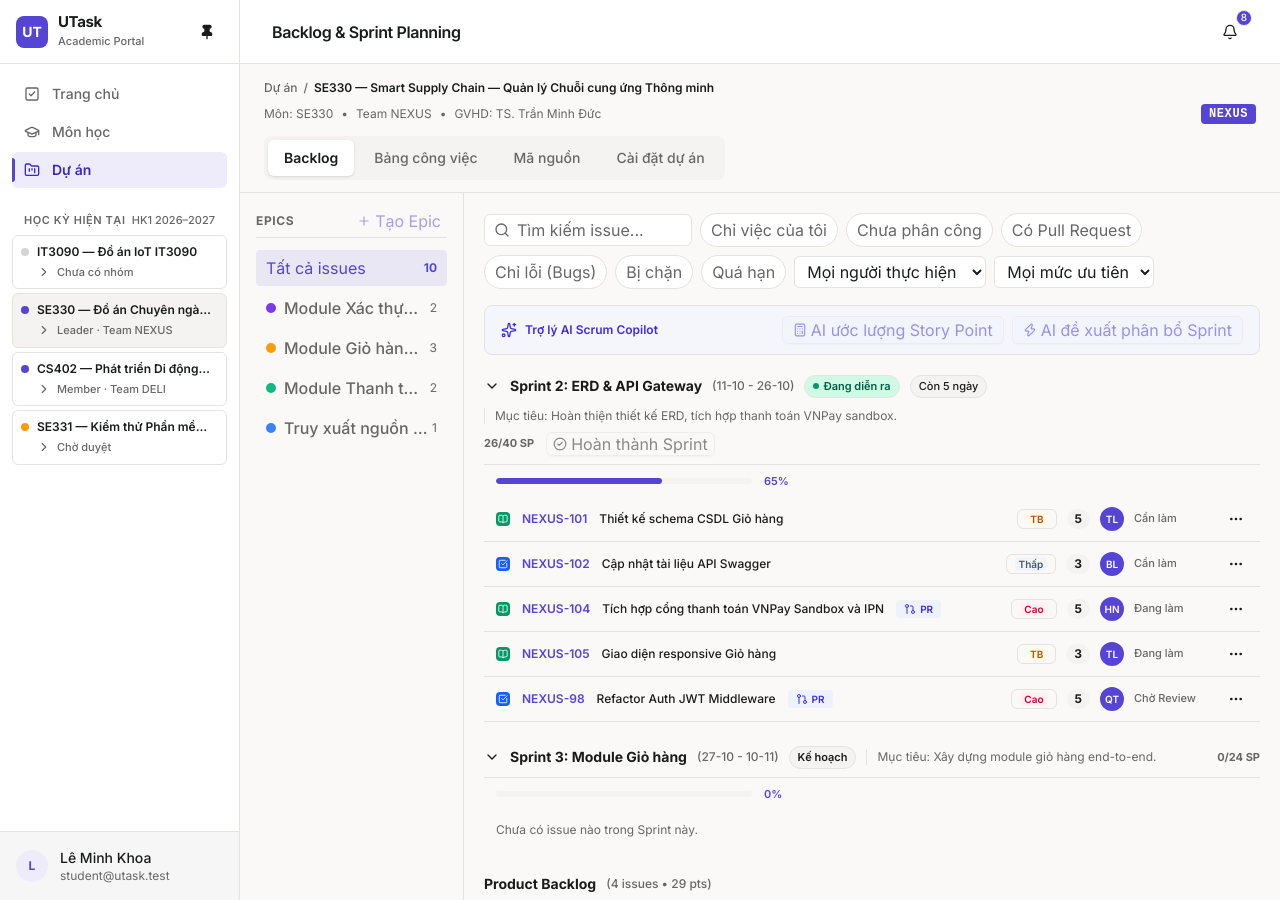
Test: multi-membership access (SV01, one session) › flips between leader and member UI within one session via the sidebar
This screenshot has width=1280, height=900.
Expected: the button "Tạo Epic" is shown, [351,209,447,233]
// Sidebar → CS402 (member workspace): leader-only actions disappear.
Click the link "CS402 — Phát triển Di động CS402 Member · Team DELI": (120, 379) [12,352,227,406]
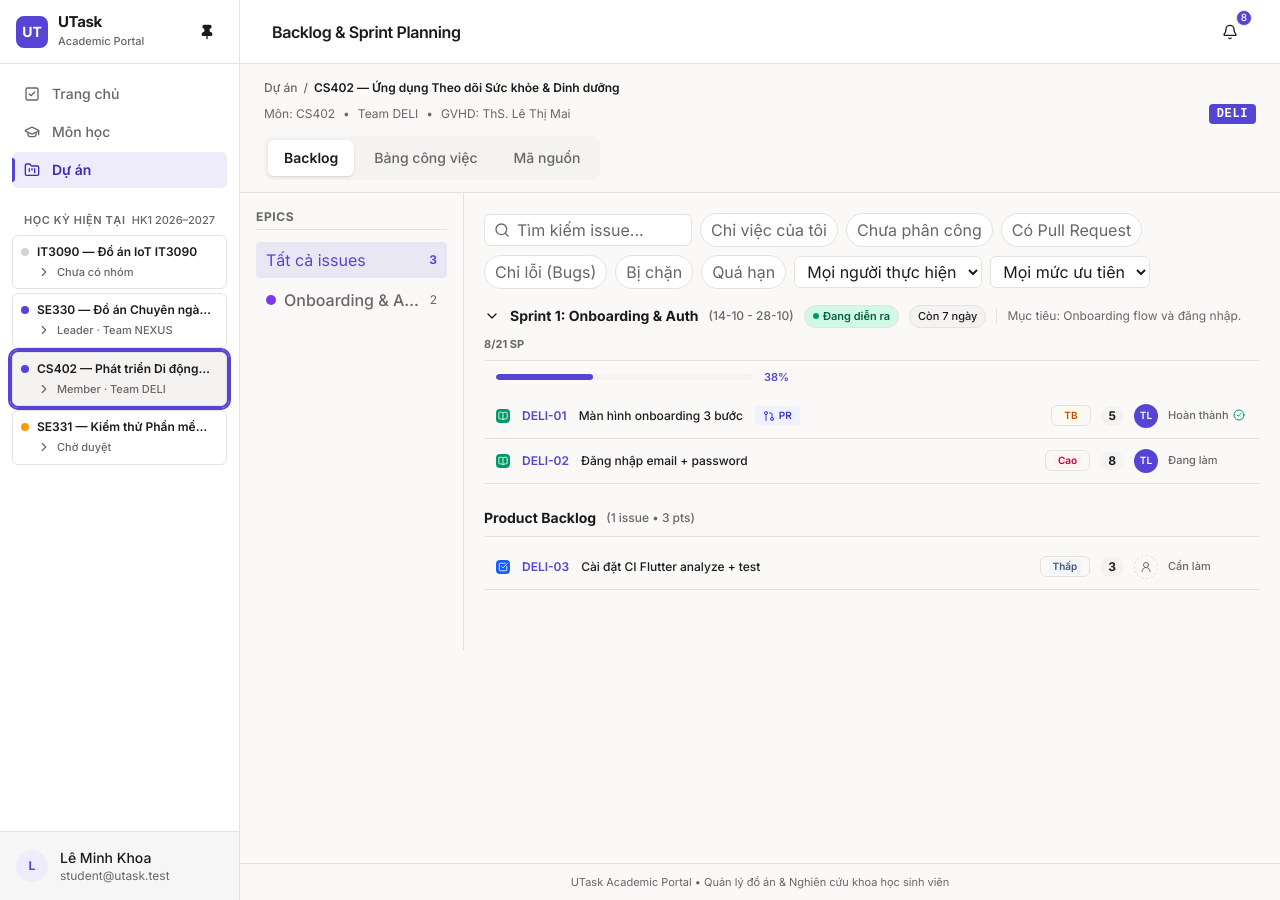
Now the button "Tạo Epic" is gone
Now the button "DELI-02" is shown, box [522,452,569,468]
// Back to SE330 (leader workspace) without re-logging in.
Click the link "SE330 — Đồ án Chuyên ngành SE330 Leader · Team NEXUS": (120, 320) [12,293,227,348]
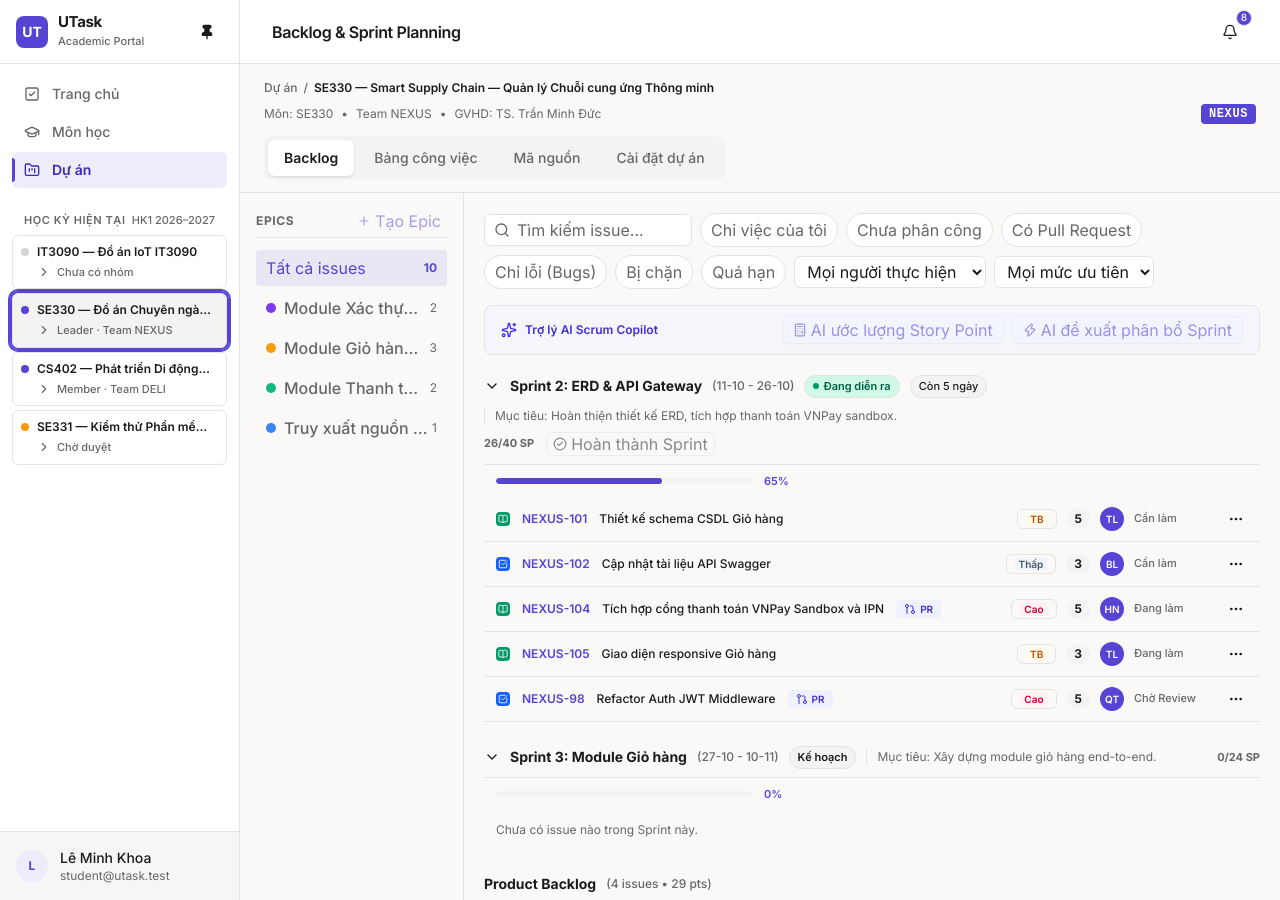
Now the button "Tạo Epic" is shown, box [351,209,447,233]
